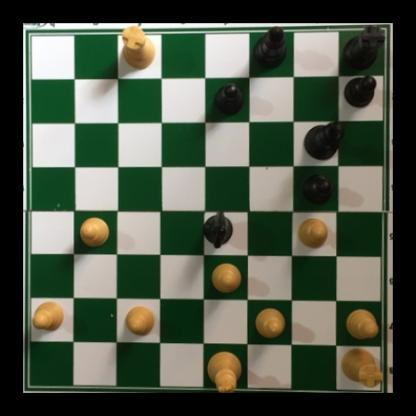black-bishop: (250, 24, 287, 71)
black-king: (300, 121, 344, 162)
black-knight: (201, 207, 233, 249)
black-pawn: (343, 74, 377, 108), (211, 83, 244, 117), (301, 173, 332, 204)
black-rook: (344, 24, 385, 72)
white-king: (201, 348, 243, 393)
white-pawn: (31, 297, 66, 331), (77, 215, 111, 249), (123, 303, 157, 337), (297, 215, 330, 250), (345, 309, 382, 340), (211, 261, 243, 296), (252, 307, 287, 339)
white-rook: (338, 344, 385, 388), (120, 24, 156, 71)
